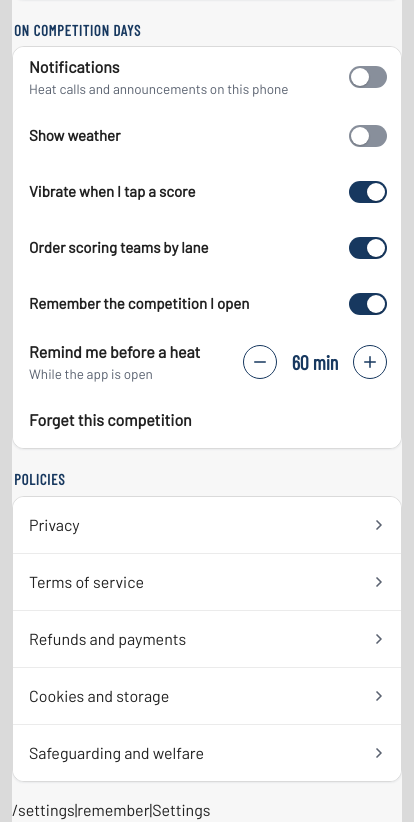
SettingsPage › clears the competition and opens the events list when Forget this competition is clicked
The image size is (414, 822).
(page scrolled)
Step 1. Click the button "Forget this competition" → (110, 420), box [13,392,401,448]
(page scrolled)
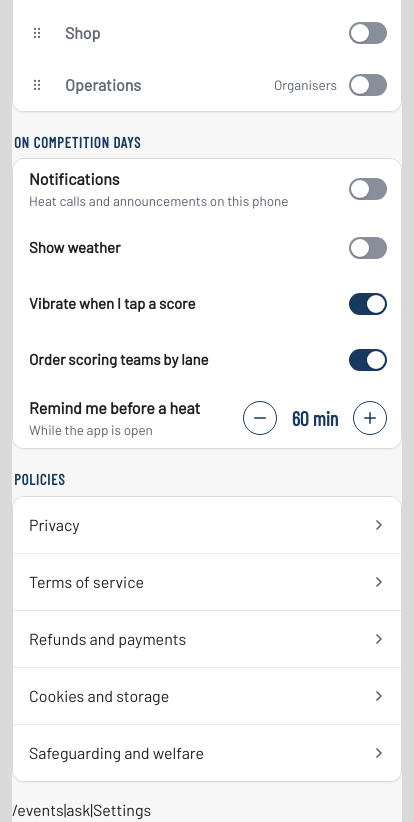
Expected: the text with test id "probe" shows "/events|ask|", [12,800,64,819]
Expected: the text "Remember the competition" is gone
